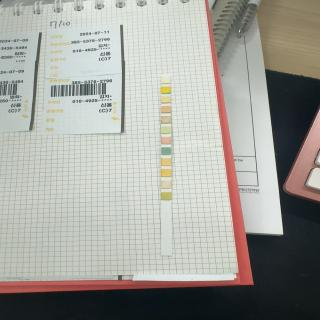mark: (162, 192, 172, 200), (162, 126, 171, 134), (161, 181, 171, 188), (161, 169, 171, 176), (161, 158, 171, 165), (161, 137, 171, 144), (162, 116, 170, 124), (161, 96, 170, 103), (161, 77, 170, 84), (161, 148, 171, 154), (162, 106, 170, 113), (162, 87, 170, 93)
